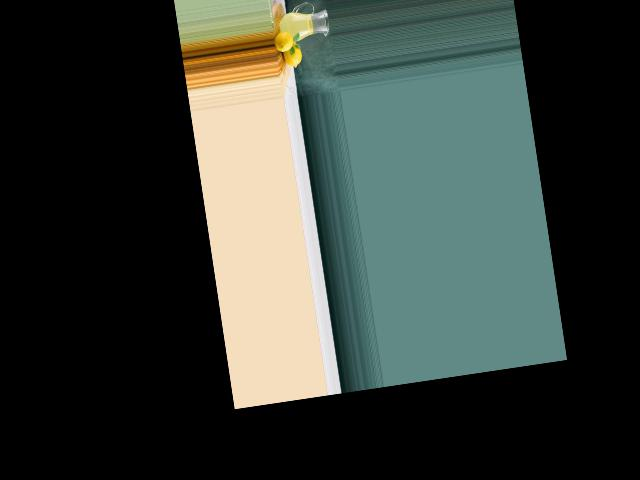lemon: (274, 29, 296, 56)
